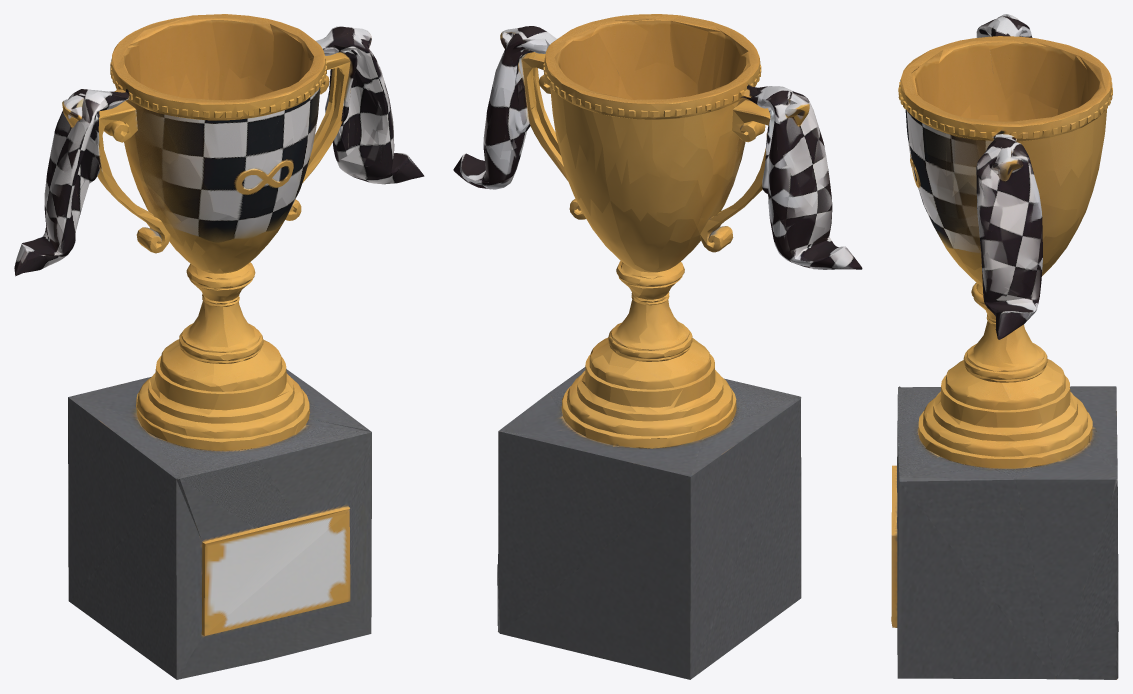
Rendered from trophy-statue.glb.
3 renders of one model, left to right at view 1: azimuth 30°, elevation 25°; view 2: azimuth 150°, elevation 25°; view 3: azimuth 270°, elevation 25°, orthographic.
Size of the model in its own units: 1.45 by 1.9 by 0.708.
1 material, 1 textured.
